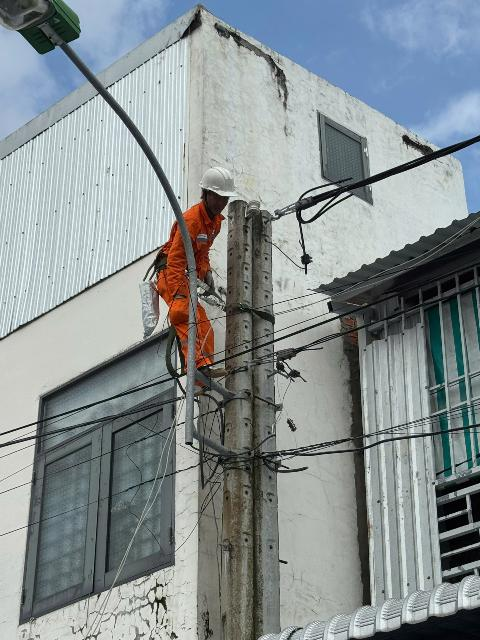gloves: (203, 266, 218, 302)
harness: (143, 249, 190, 275)
helmet: (196, 160, 248, 203)
shoes: (196, 364, 230, 378)
